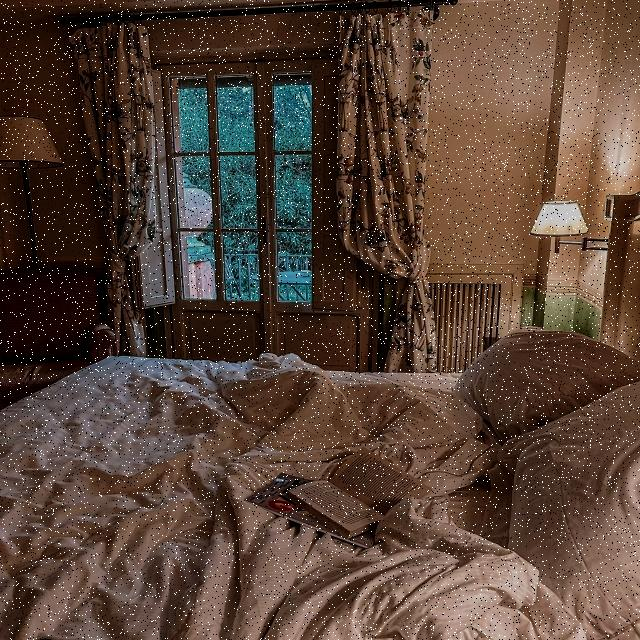bed: (0, 289, 640, 638)
